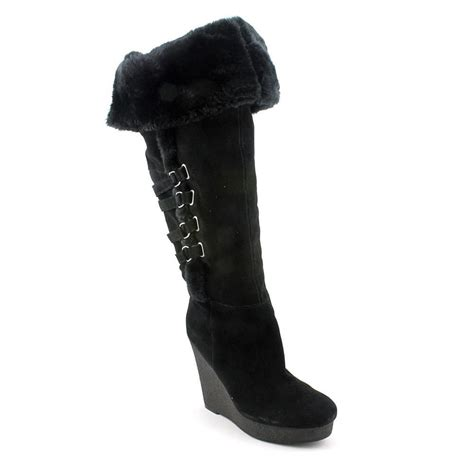gamuza: (105, 17, 338, 428)
